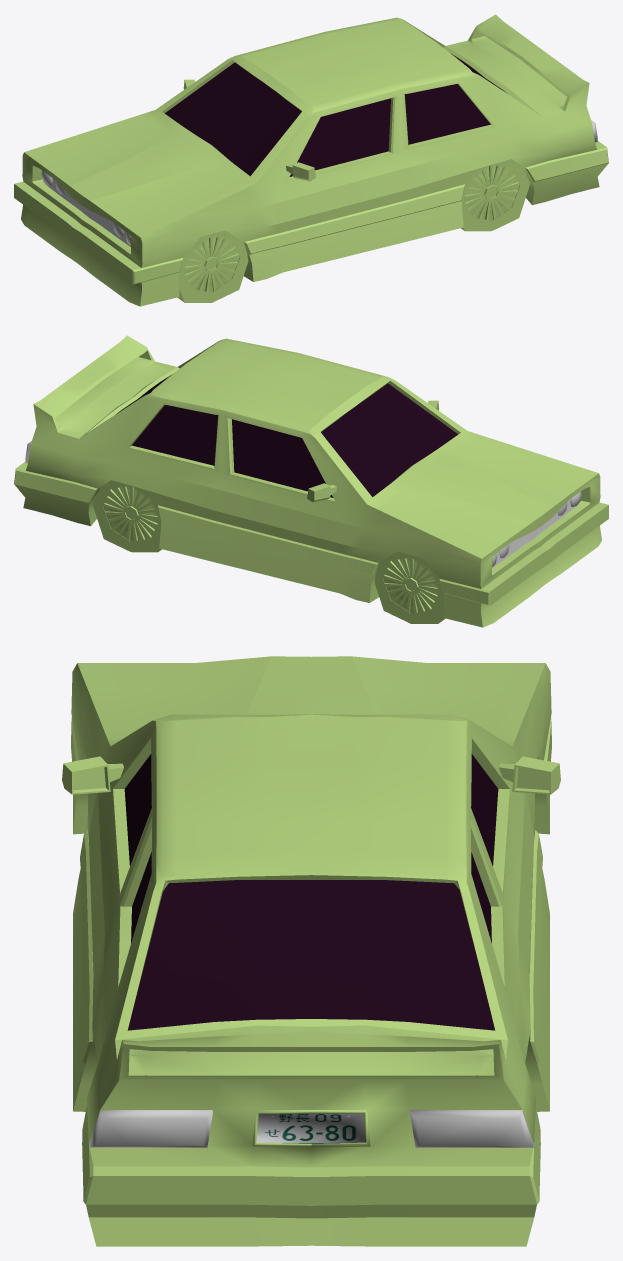
Rendered from BMW E30 M3.fbx.
The picture shows the model from 3 angles, top to bottom: view 1: azimuth 30°, elevation 25°; view 2: azimuth 150°, elevation 25°; view 3: azimuth 270°, elevation 25°; orthographic projection. The views are drawn at different scales.
Visible parts, largest first — view 1: Body, Wheel_FrontLeft, Wheel_BackLeft; view 2: Body, Wheel_FrontRight, Wheel_BackRight; view 3: Body.
Boxes of the visible parts, box(x1,y1,x2,y2) form: Body: box(14, 14, 608, 306); Wheel_FrontLeft: box(177, 230, 248, 302); Wheel_BackLeft: box(461, 159, 530, 231); Body: box(14, 335, 608, 627); Wheel_FrontRight: box(374, 551, 445, 623); Wheel_BackRight: box(92, 480, 161, 552); Body: box(62, 656, 560, 1246).
Size of the model in its own units: 437 by 135 by 197.
